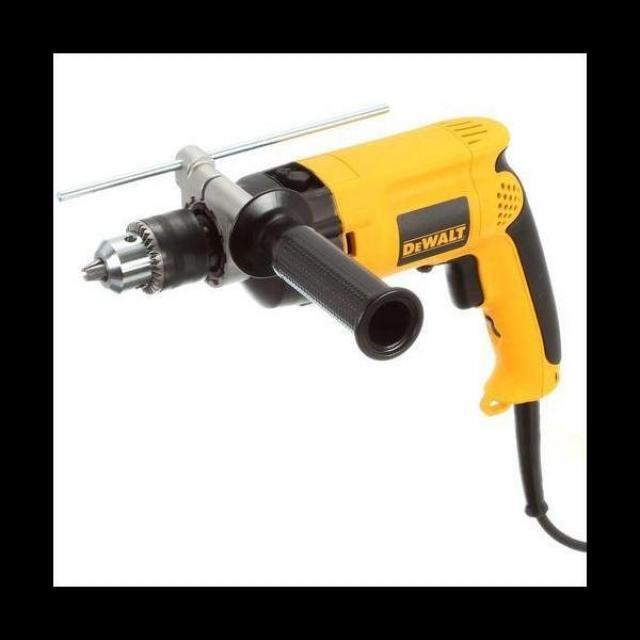drill: (58, 105, 563, 517)
